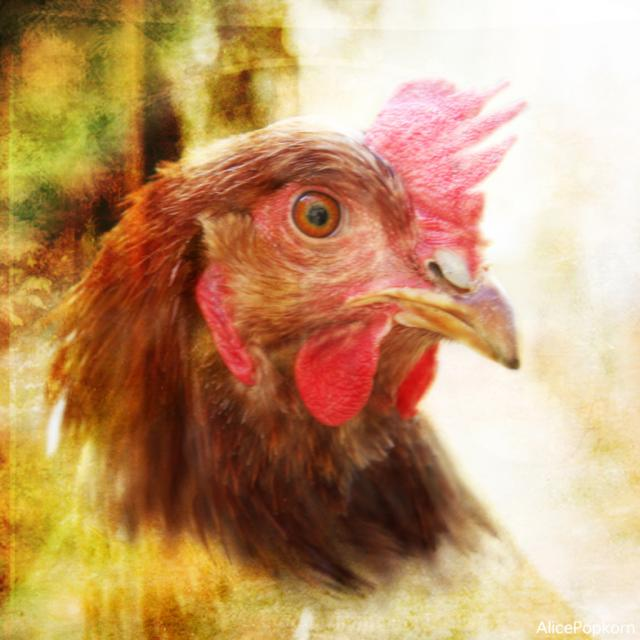Chicken: (0, 76, 599, 640)
